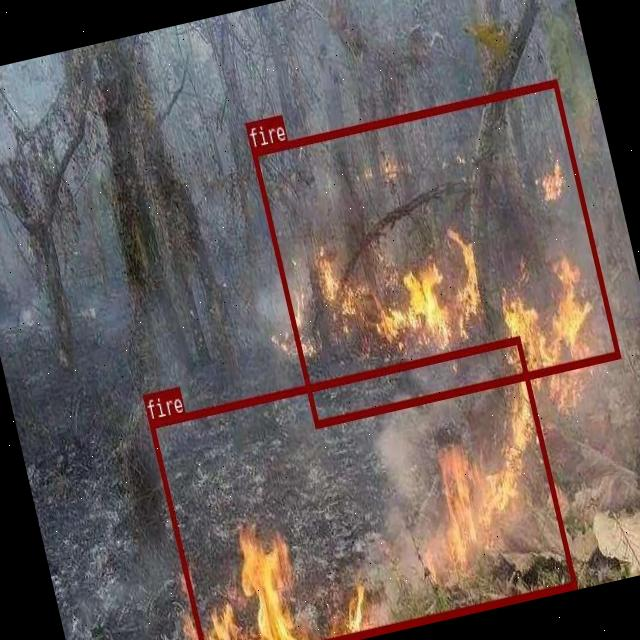fire: (146, 334, 575, 640), (251, 78, 618, 426)
